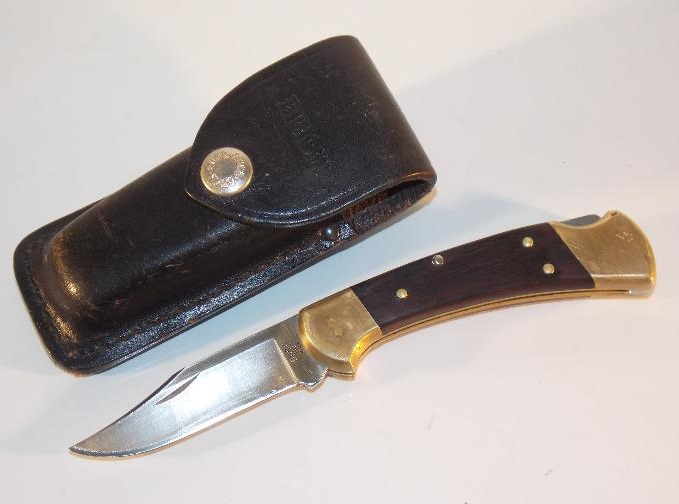knife: (54, 294, 382, 463)
